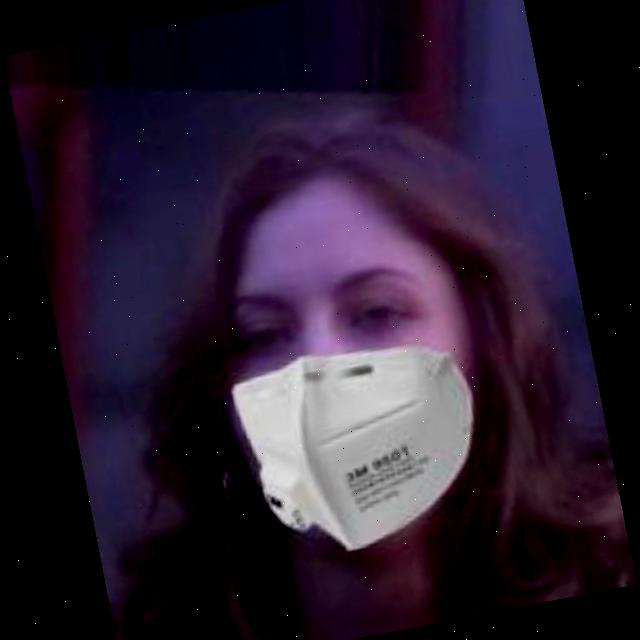suspicion: (142, 52, 556, 573)
